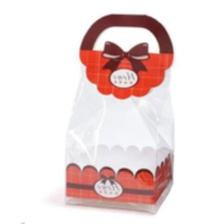snack: (58, 8, 182, 219)
